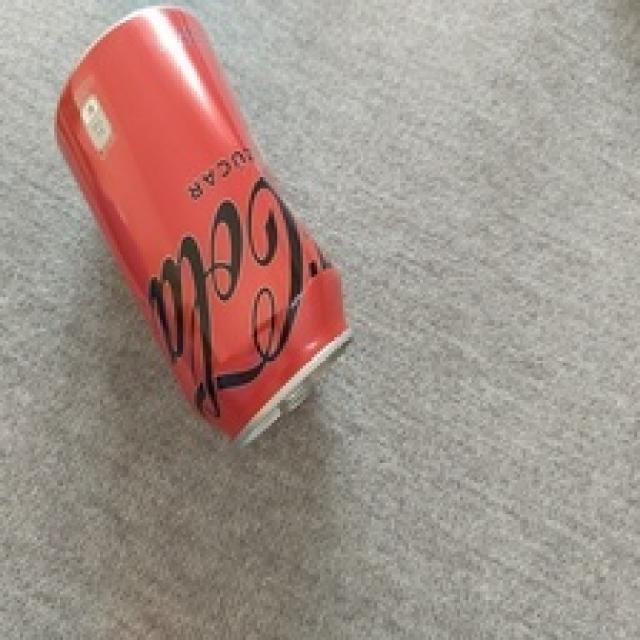recyclable: (54, 6, 352, 446)
